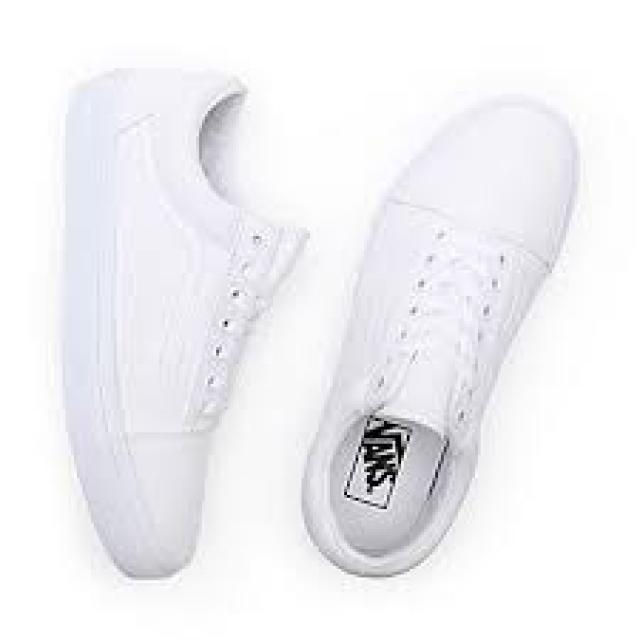shoe: (321, 83, 576, 594), (57, 71, 300, 582)
